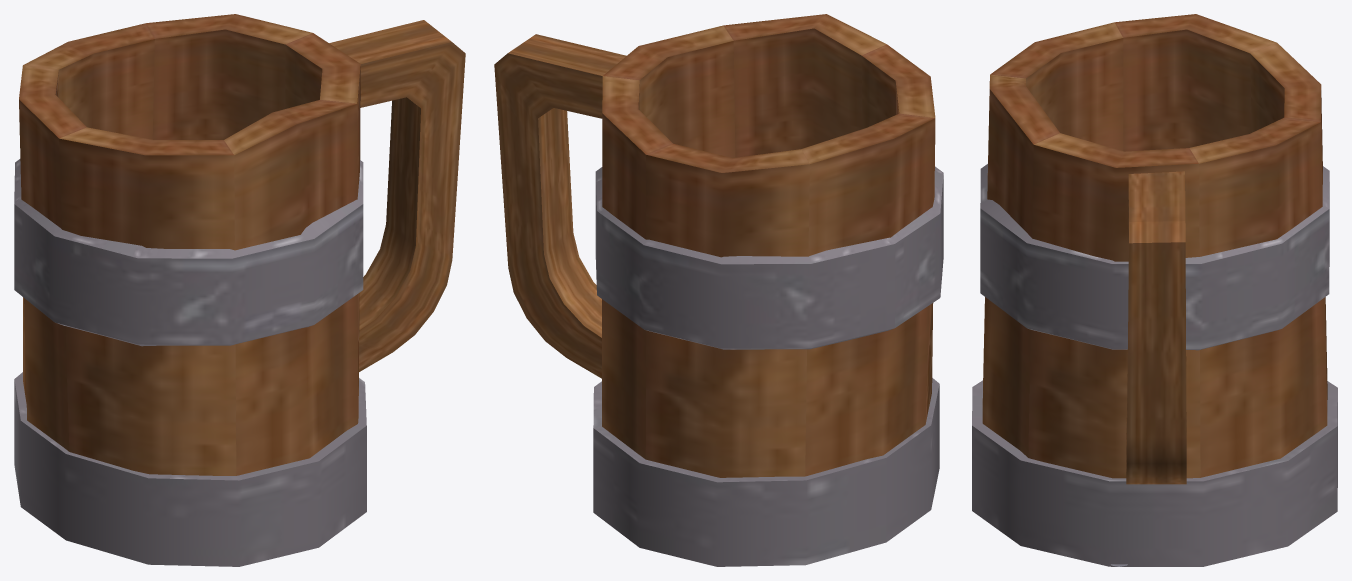
File: mug.glb
3 views of the same model, side by side, from view 1: azimuth 30°, elevation 25°; view 2: azimuth 150°, elevation 25°; view 3: azimuth 270°, elevation 25° (orthographic). The views are drawn at different scales.
Parts seen in each view (by area): view 1: Mug; view 2: Mug; view 3: Mug.
Boxes of the visible parts, box(x1,y1,x2,y2) form: Mug: box(14, 14, 465, 566); Mug: box(494, 14, 943, 566); Mug: box(972, 14, 1337, 566).
Bounding box in the file's own units: 0.1921 × 0.1839 × 0.1468.
2 materials, 2 textured.
